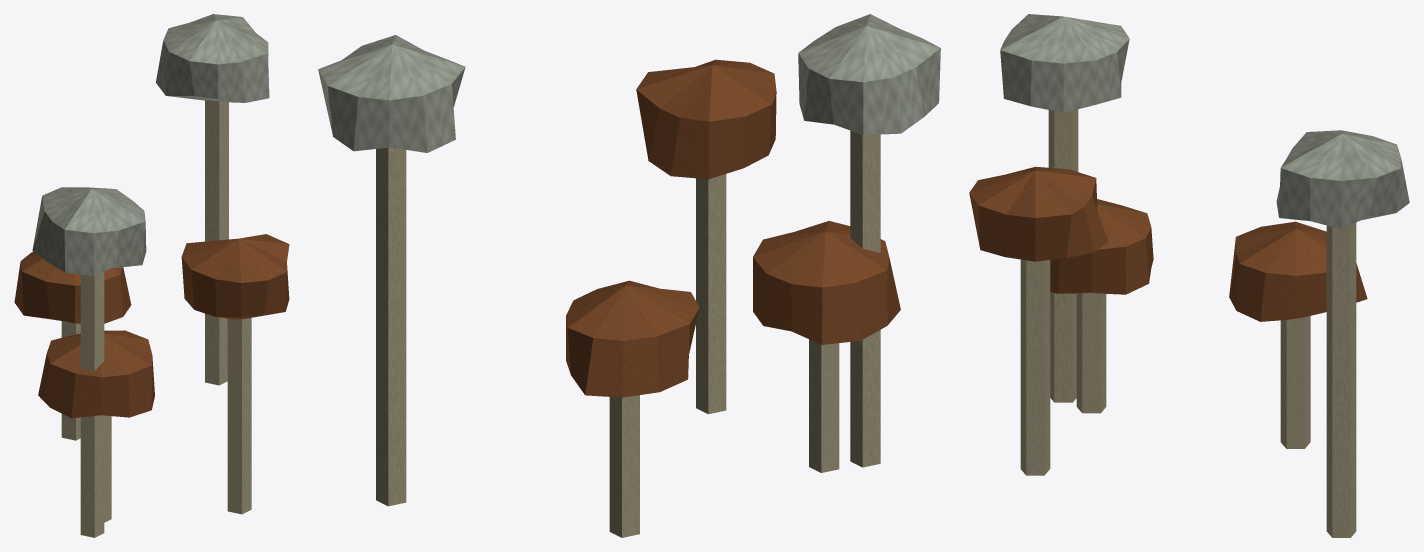
Rendered from mushrooms_01.fbx.
3 renders of one model, left to right at view 1: azimuth 30°, elevation 25°; view 2: azimuth 150°, elevation 25°; view 3: azimuth 270°, elevation 25°, orthographic. The views are drawn at different scales.
Parts seen in each view (by area): view 1: mushrooms_01_LOD0; view 2: mushrooms_01_LOD0; view 3: mushrooms_01_LOD0.
Part boxes in pixels (box(x1,y1,x2,y2)): mushrooms_01_LOD0: box(14, 14, 289, 537); mushrooms_01_LOD0: box(318, 14, 940, 537); mushrooms_01_LOD0: box(969, 14, 1409, 537).
Size of what is drawn, in the model's own units: 1 by 1 by 1.
